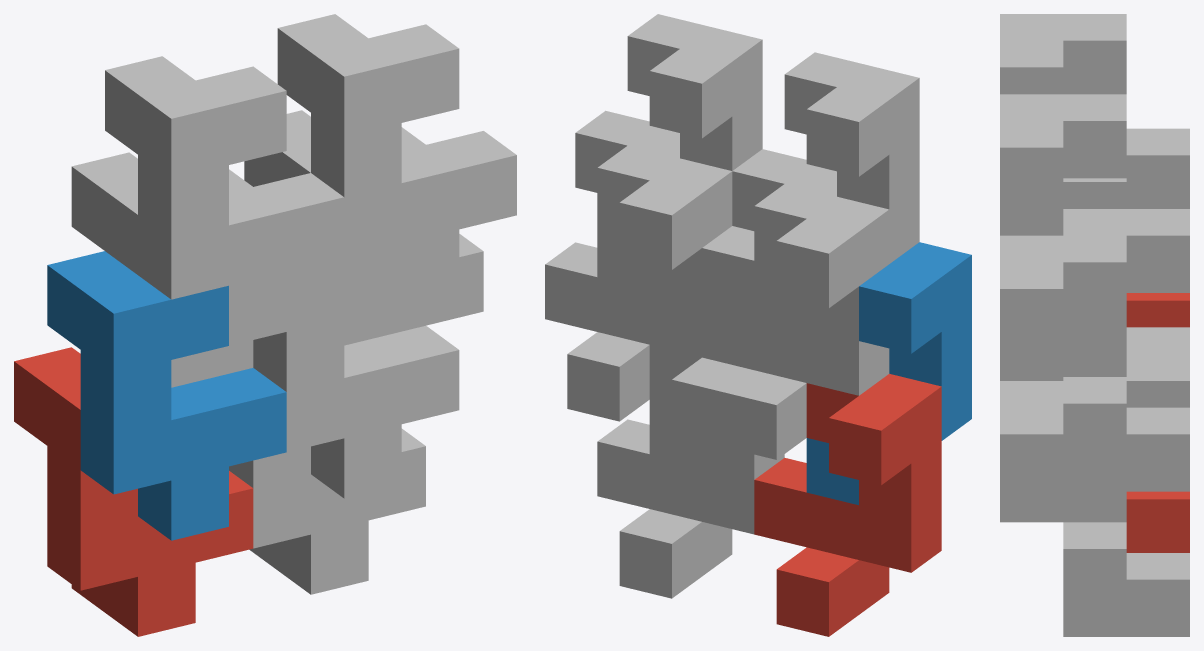
File: tiling.obj
3 renders of one model, left to right at view 1: azimuth 30°, elevation 25°; view 2: azimuth 150°, elevation 25°; view 3: azimuth 270°, elevation 25°, orthographic. The views are drawn at different scales.
Visible parts, largest first — view 1: copy_1_domain_4, copy_1_domain_2, copy_1_domain_8, copy_1_domain_6, copy_1_domain_1, copy_1_domain_5, copy_1_domain_3, copy_1_domain_7; view 2: copy_1_domain_1, copy_1_domain_3, copy_1_domain_7, copy_1_domain_5, copy_1_domain_4, copy_1_domain_8, copy_1_domain_2, copy_1_domain_6; view 3: copy_1_domain_8, copy_1_domain_7, copy_1_domain_5, copy_1_domain_6, copy_1_domain_4, copy_1_domain_3, copy_1_domain_1.
Part boxes in pixels (x1=…): copy_1_domain_4: x1=105, y1=56, x2=344, y2=345; copy_1_domain_2: x1=47, y1=251, x2=286, y2=540; copy_1_domain_8: x1=277, y1=14, x2=516, y2=303; copy_1_domain_6: x1=253, y1=243, x2=459, y2=498; copy_1_domain_1: x1=14, y1=347, x2=253, y2=636; copy_1_domain_5: x1=229, y1=428, x2=425, y2=594; copy_1_domain_3: x1=71, y1=152, x2=253, y2=387; copy_1_domain_7: x1=244, y1=110, x2=483, y2=345; copy_1_domain_1: x1=754, y1=374, x2=941, y2=636; copy_1_domain_3: x1=702, y1=184, x2=889, y2=459; copy_1_domain_7: x1=545, y1=145, x2=732, y2=421; copy_1_domain_5: x1=597, y1=345, x2=784, y2=598; copy_1_domain_4: x1=732, y1=52, x2=919, y2=328; copy_1_domain_8: x1=575, y1=14, x2=762, y2=289; copy_1_domain_2: x1=806, y1=242, x2=971, y2=505; copy_1_domain_6: x1=649, y1=226, x2=754, y2=466; copy_1_domain_8: x1=1000, y1=94, x2=1126, y2=376; copy_1_domain_7: x1=1063, y1=209, x2=1189, y2=491; copy_1_domain_5: x1=1063, y1=354, x2=1189, y2=636; copy_1_domain_6: x1=1000, y1=377, x2=1126, y2=522; copy_1_domain_4: x1=1000, y1=14, x2=1126, y2=94; copy_1_domain_3: x1=1063, y1=128, x2=1189, y2=354; copy_1_domain_1: x1=1126, y1=293, x2=1189, y2=552.
Size of the model in its own units: 7 by 9 by 3.
